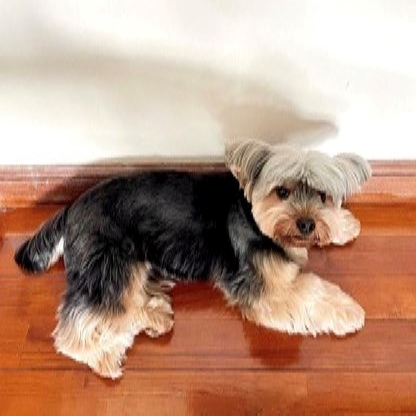yorkshire: (15, 134, 372, 381)
